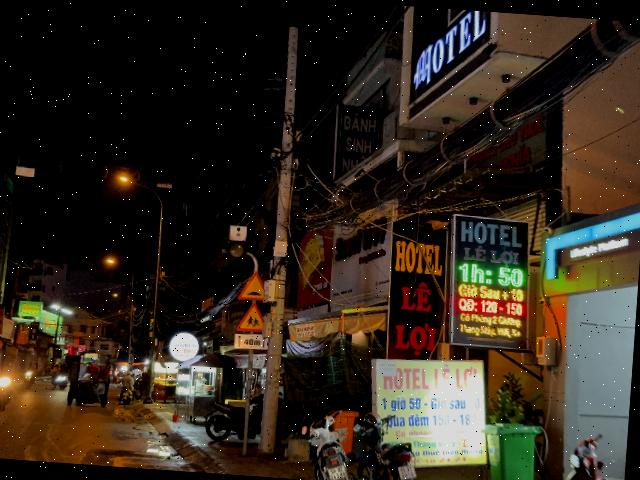duong-co-go-giam-toc: (238, 270, 266, 300)
tre-em-qua-duong: (236, 301, 265, 332)
